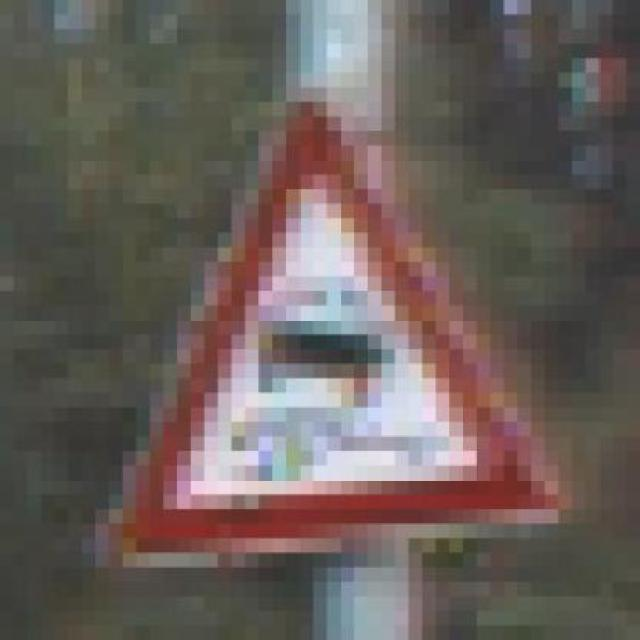Slippery Road Ahead: (96, 73, 558, 582)
